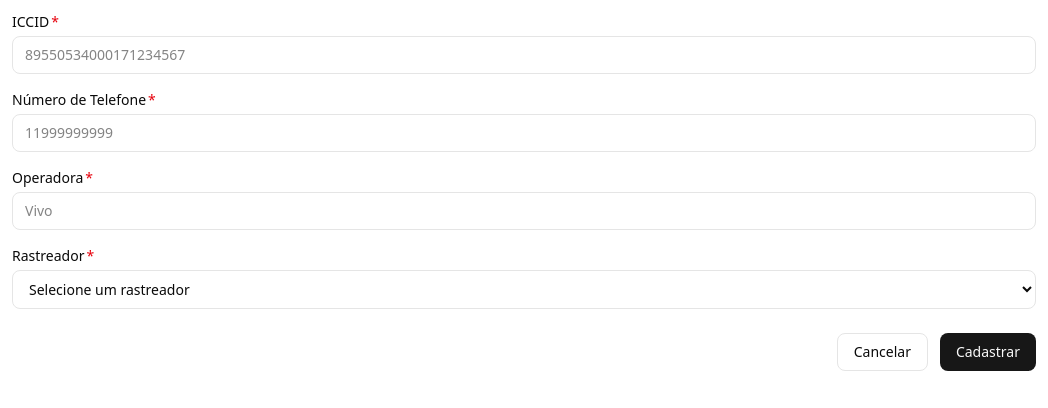
Test: ChipForm › ICCID com menos de 18 chars → erro após blur
Type "12345" into the field labelled "ICCID*".
click(524, 55); type("12345")  # box [12,36,1036,74]
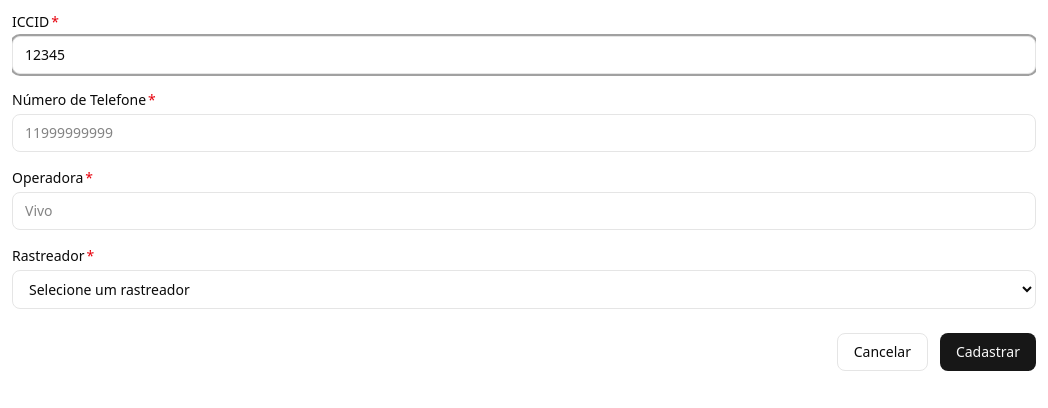
Press Tab
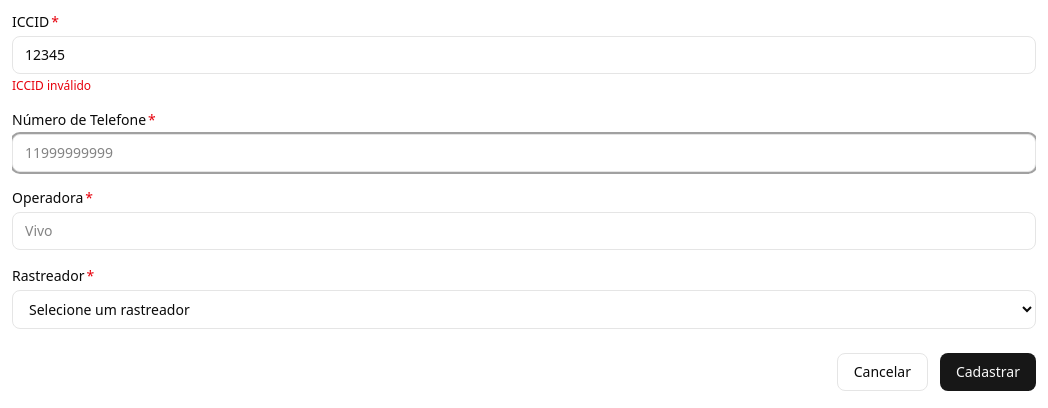
Check: the message reads "ICCID inválido", box [12,77,91,94]
